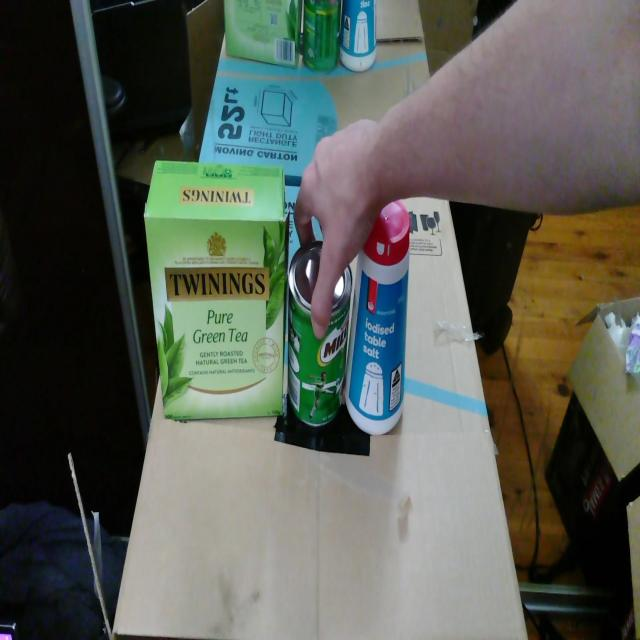nestle_milo_tin: (288, 240, 353, 426)
twinings_greentea_box: (144, 161, 288, 420)
woolworths_salt_bottle: (345, 200, 410, 435)
